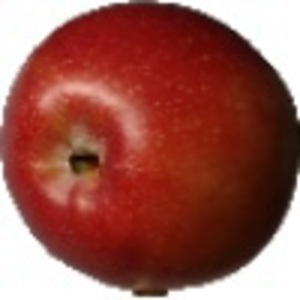maçã braeburn: (3, 1, 299, 290)
